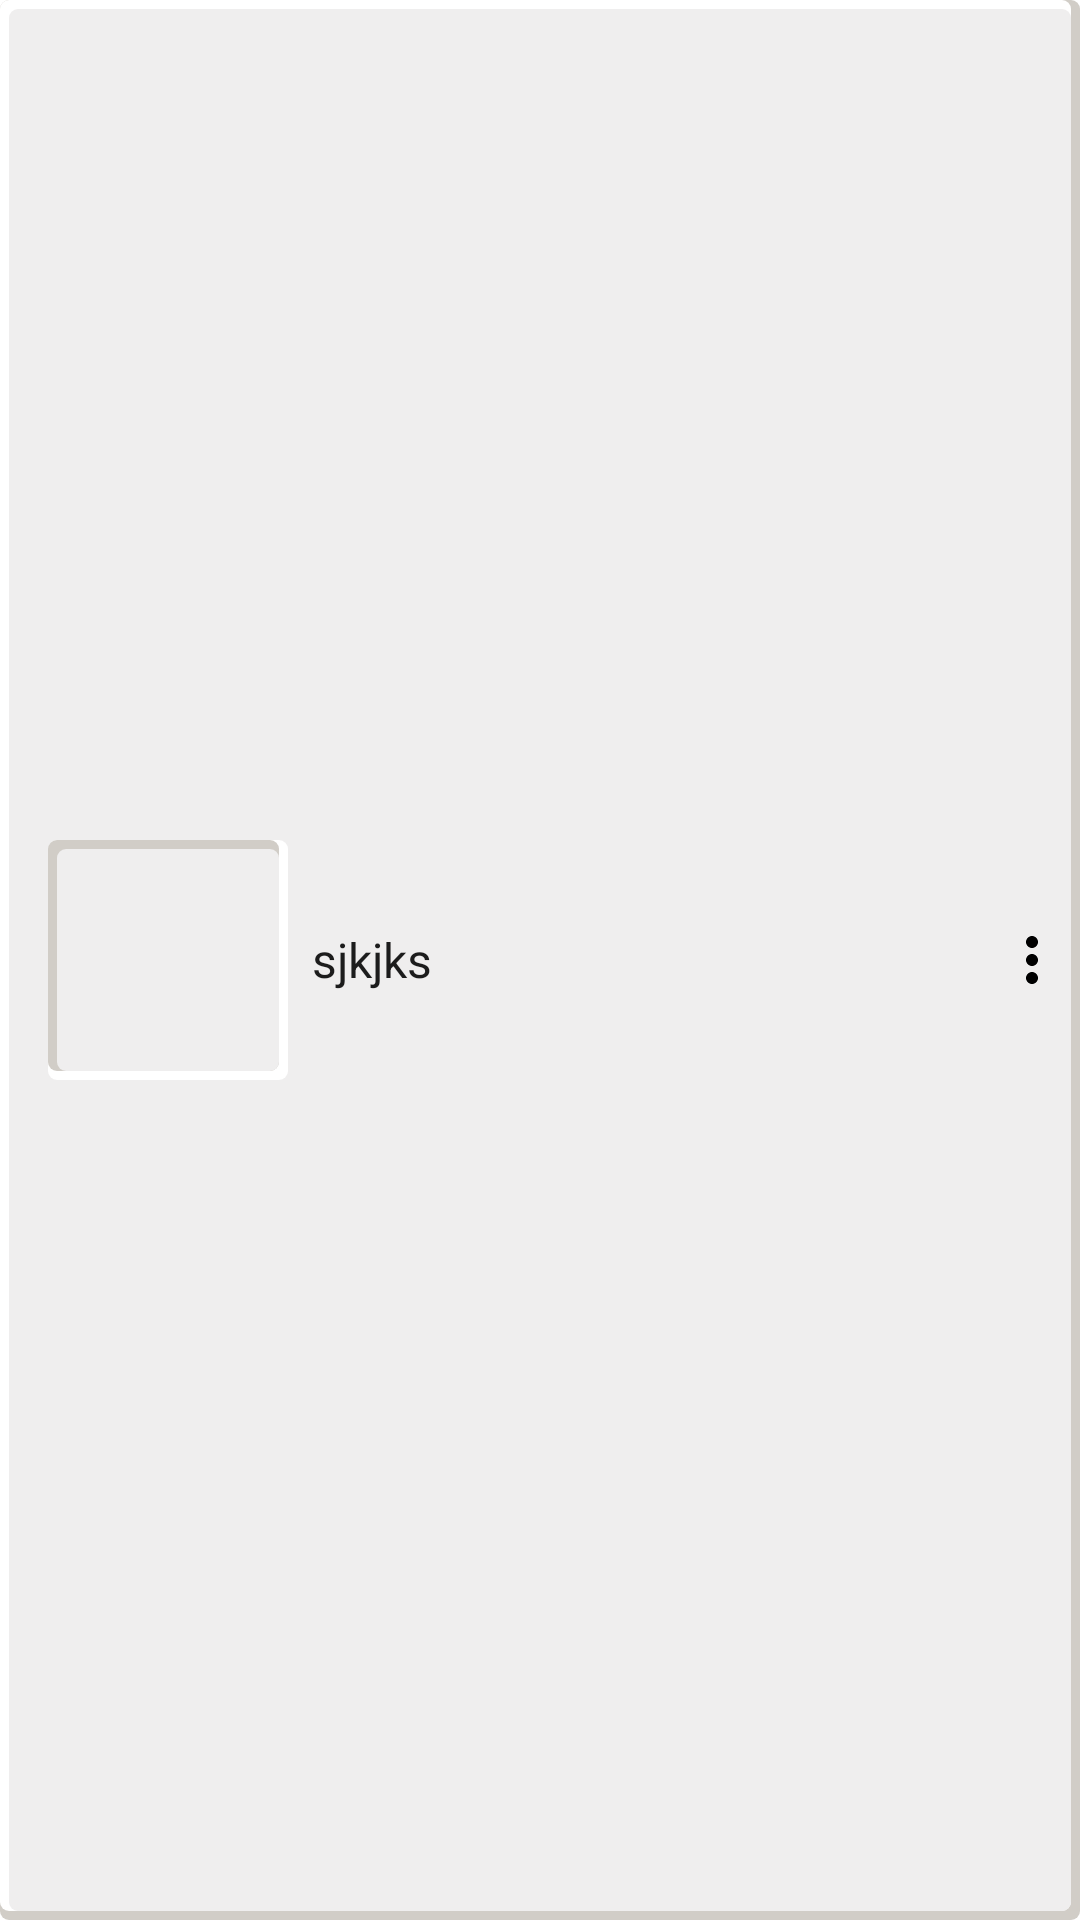

Named icons in this screenshot (1080 × 1920) and their bounding boxes, [x1,y1,x2,y2]:
more: [1026,936,1038,984]
